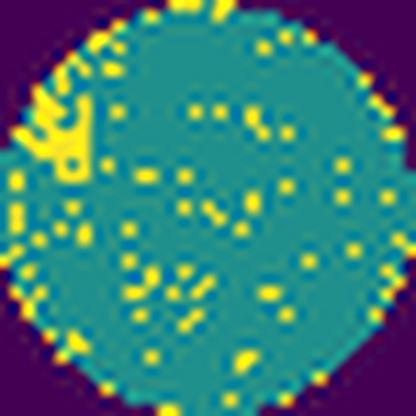Loc: (9, 84, 96, 184)
